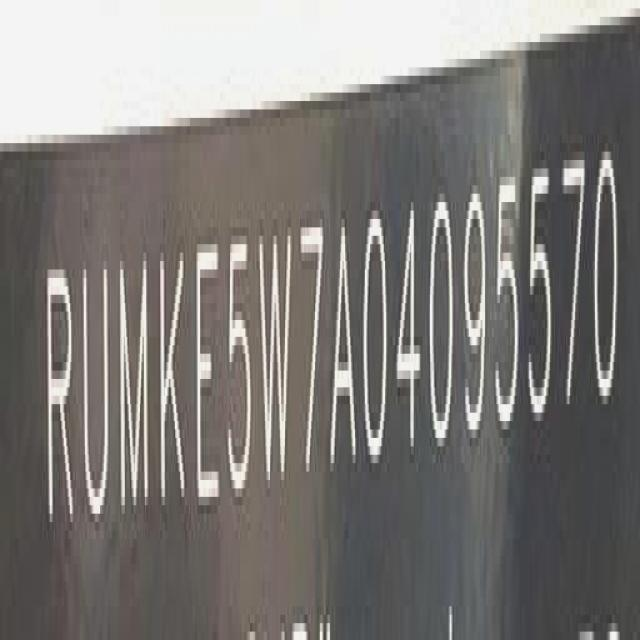0: (427, 178, 456, 455), (363, 203, 389, 480), (593, 140, 618, 412)
4: (395, 188, 422, 456)
5: (226, 231, 253, 502), (493, 172, 520, 436), (528, 156, 553, 433)
7: (300, 218, 326, 474), (561, 150, 586, 415)
9: (462, 181, 488, 443)
A: (331, 203, 358, 483)
E: (193, 237, 222, 518)
K: (158, 247, 187, 527)
M: (118, 256, 152, 521)
R: (44, 262, 76, 527)
U: (82, 253, 110, 527)
W: (258, 225, 292, 492)
